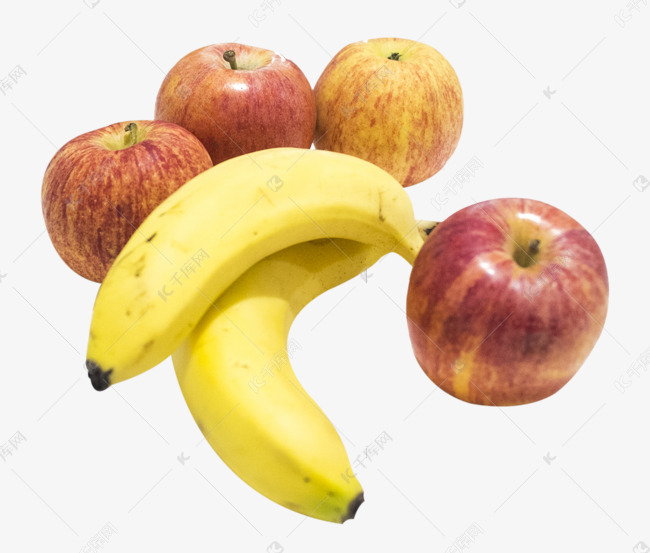apple: (417, 196, 607, 406), (42, 117, 215, 283), (323, 39, 467, 184), (161, 43, 317, 162)
banana: (97, 152, 414, 532)
